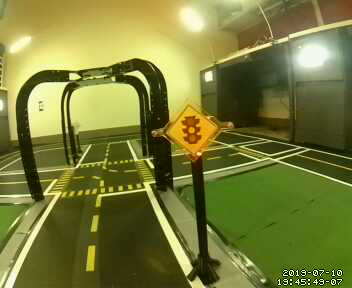Traffic light sign: (167, 106, 219, 158)
